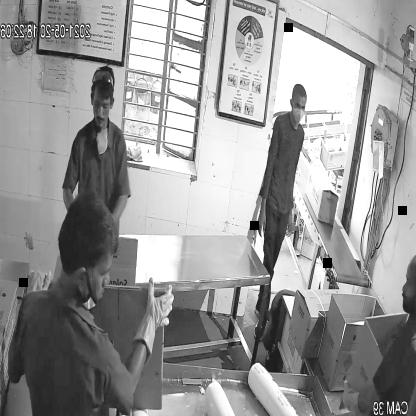no_goggles: (89, 92, 118, 114)
